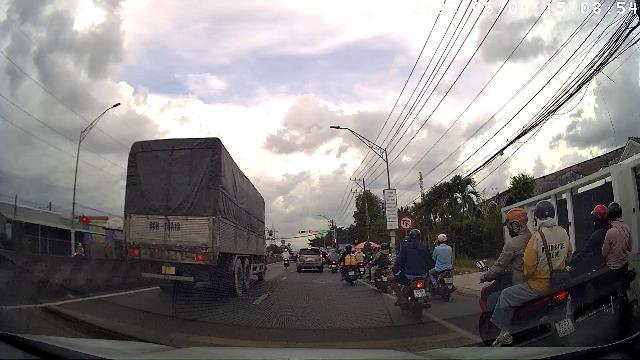124b-cam-oto-quay-dau-xe: (399, 215, 414, 231)
